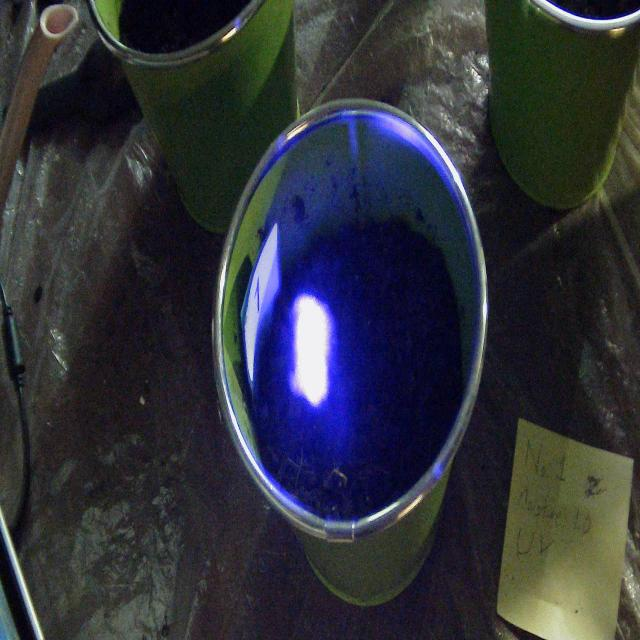soil-moisture-1.0: (289, 293, 339, 415)
